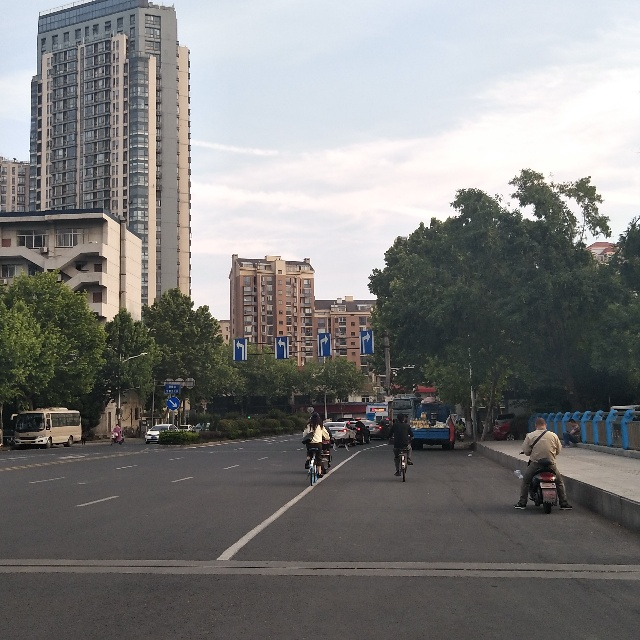left: (233, 339, 247, 361), (277, 337, 289, 362)
right: (317, 335, 329, 357), (361, 332, 373, 354)
